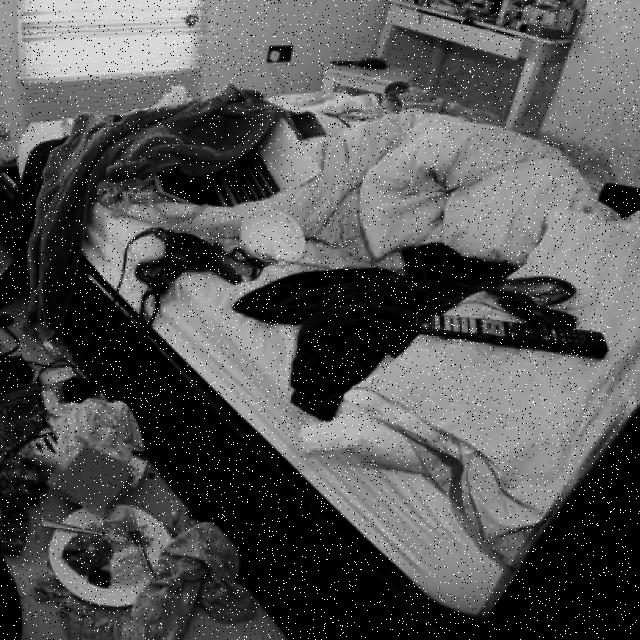bed: (34, 71, 640, 565)
